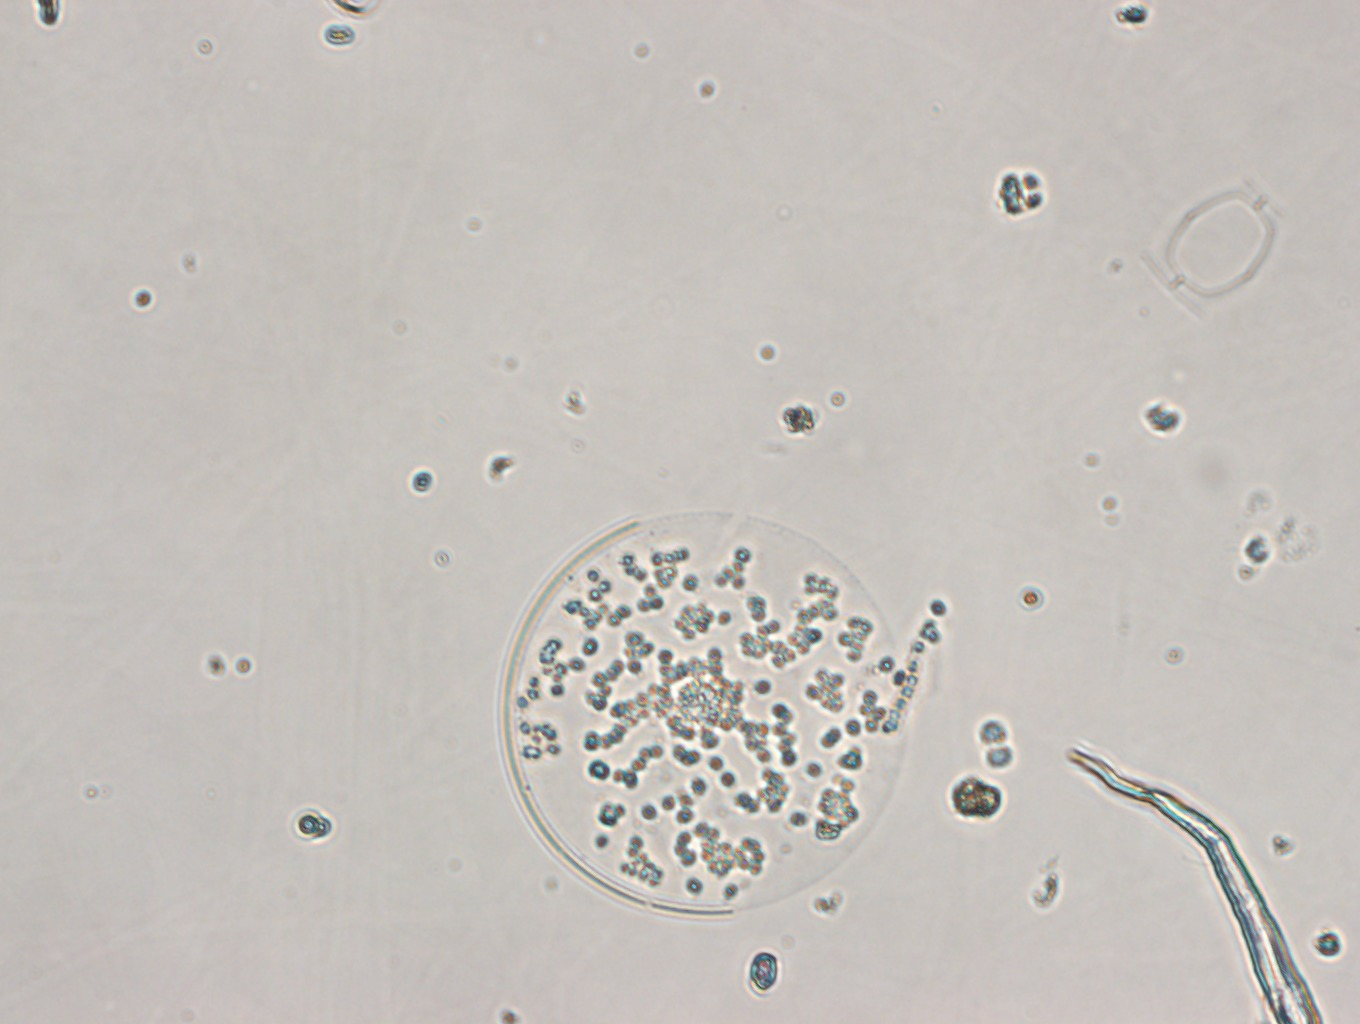coscinodiscus: (498, 518, 902, 922)
